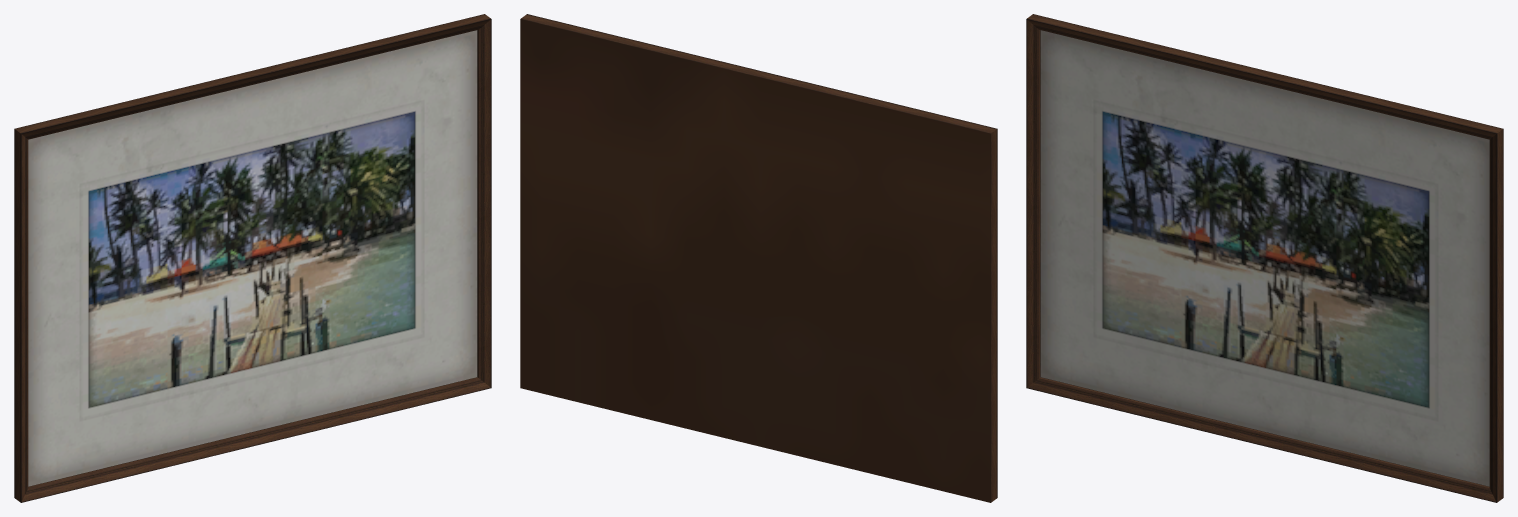
The model's file is p6_painting_motel_03_lod0.glb.
3 views of the same model, side by side, from view 1: azimuth 30°, elevation 25°; view 2: azimuth 150°, elevation 25°; view 3: azimuth 330°, elevation 25° (orthographic).
Parts seen in each view (by area): view 1: surf0; view 2: surf0; view 3: surf0.
Part boxes in pixels (x1,y1,x2,y2): surf0: (14,14,491,502); surf0: (520,14,997,502); surf0: (1026,14,1503,502).
Size of the model in its own units: 37.51 by 28.13 by 0.9377.
